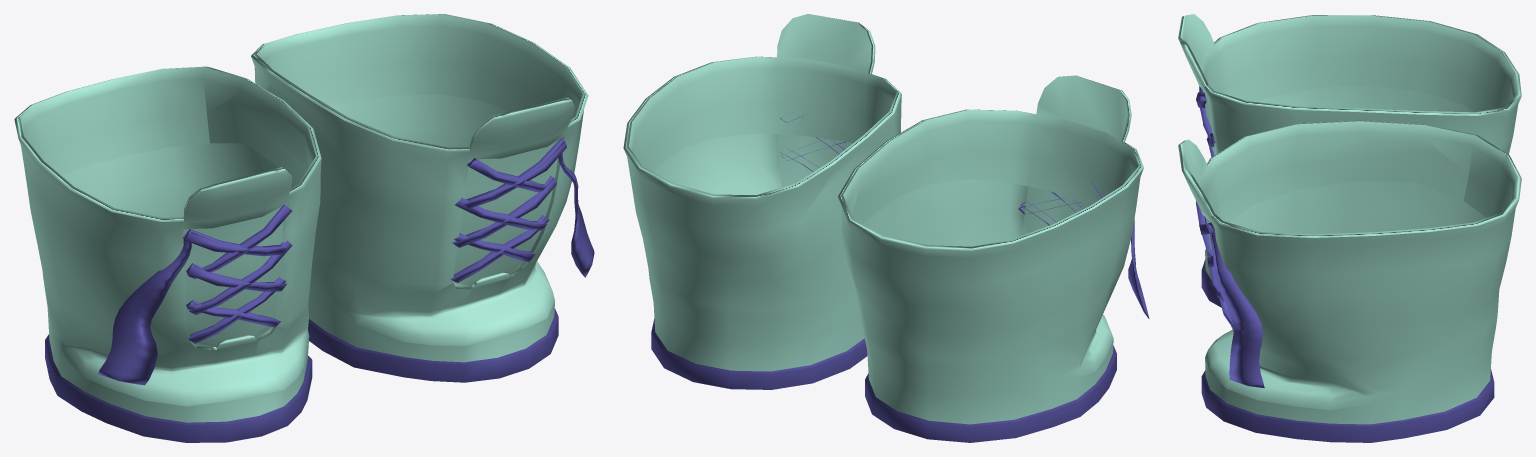
Rendered from Boots01_lace.fbx.
3 renders of one model, left to right at view 1: azimuth 30°, elevation 25°; view 2: azimuth 150°, elevation 25°; view 3: azimuth 270°, elevation 25°, orthographic. The views are drawn at different scales.
Visible parts, largest first — view 1: Boots_b_lace; view 2: Boots_b_lace; view 3: Boots_b_lace.
Boxes of the visible parts, box(x1,y1,x2,y2) form: Boots_b_lace: box(14, 14, 594, 442); Boots_b_lace: box(623, 14, 1149, 442); Boots_b_lace: box(1178, 14, 1521, 442).
Bounding box in the file's own units: 104 × 54.39 × 67.62.
